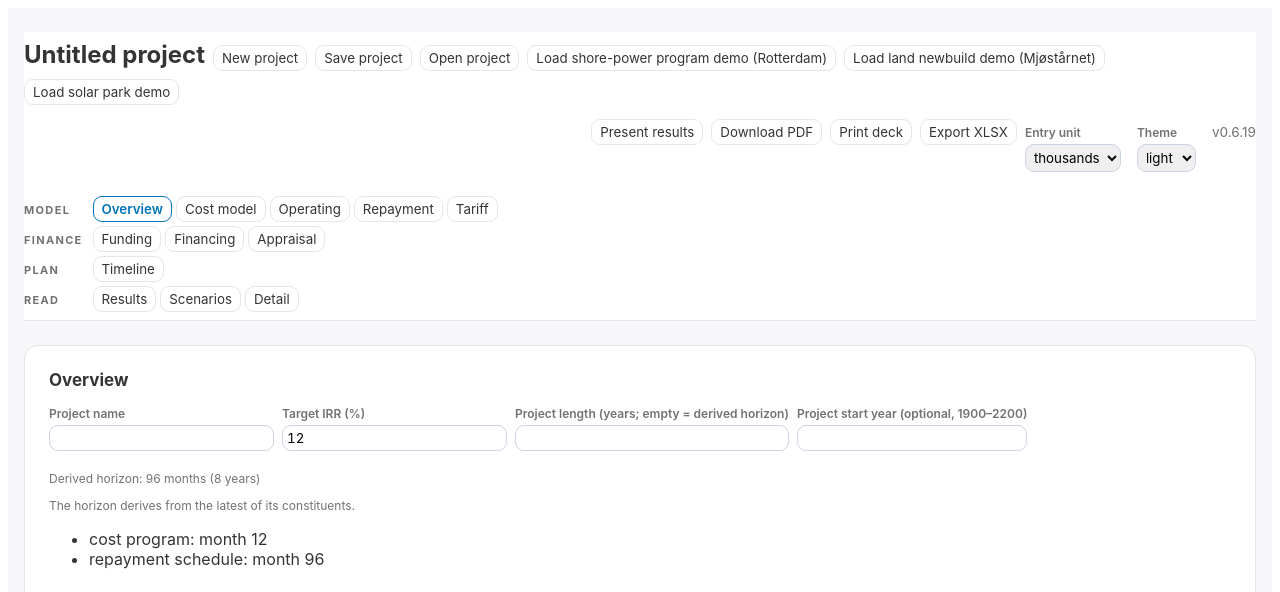
Test case: v0.6.18 Task E.1: the scale presets › DEFAULT: the selector stands on Empty and no gate is populated; the empty block carries no scale
Step 1. Click the button "Timeline" → (128, 269), box 92,256 -> 164,282
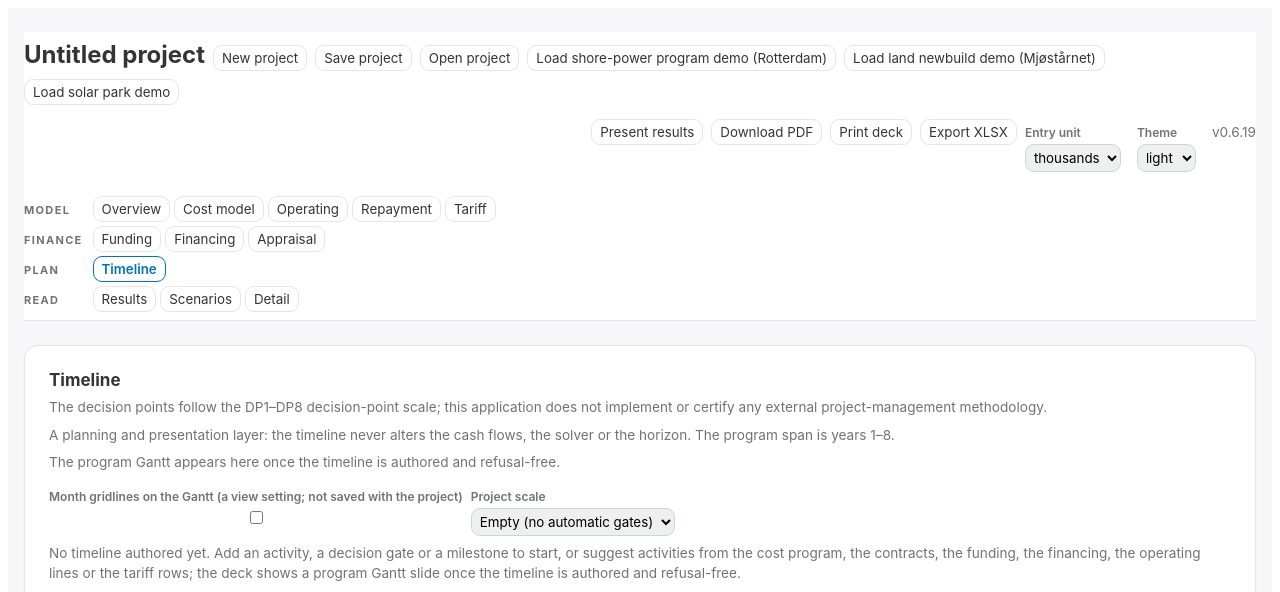
Result: the dropdown labelled "Project scale" shows "Empty (no automatic gates)" at 471,508 -> 675,536
